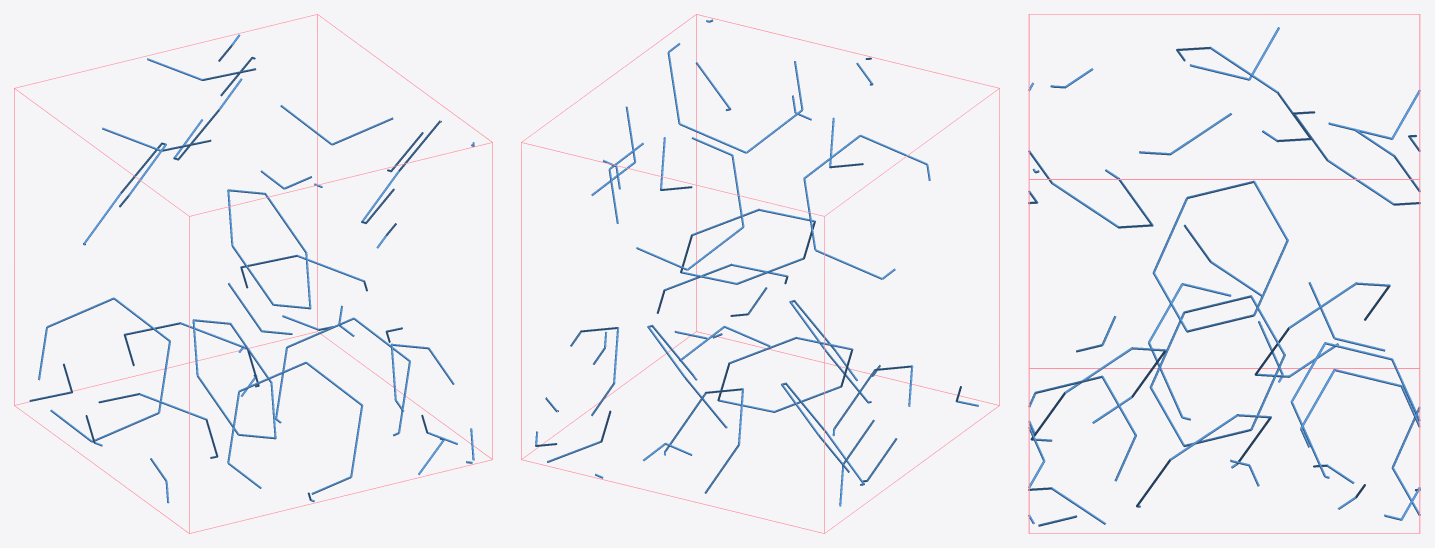
The model's file is DDD0_prismatic_aug1_visible_wbox_emission.glb.
The picture shows the model from 3 angles, left to right: view 1: azimuth 30°, elevation 25°; view 2: azimuth 150°, elevation 25°; view 3: azimuth 270°, elevation 25°; orthographic projection. The views are drawn at different scales.
Parts seen in each view (by area): view 1: Shape_IndexedLineSet.001, Shape_IndexedLineSet; view 2: Shape_IndexedLineSet.001, Shape_IndexedLineSet; view 3: Shape_IndexedLineSet.001, Shape_IndexedLineSet.
Boxes of the visible parts, x1,y1,x2,y2 form: Shape_IndexedLineSet.001: [29, 34, 474, 503]; Shape_IndexedLineSet: [14, 14, 492, 533]; Shape_IndexedLineSet.001: [535, 19, 978, 506]; Shape_IndexedLineSet: [521, 14, 999, 533]; Shape_IndexedLineSet.001: [1028, 27, 1420, 526]; Shape_IndexedLineSet: [1028, 14, 1420, 533].
Bounding box in the file's own units: 10.05 × 10.05 × 10.05.
